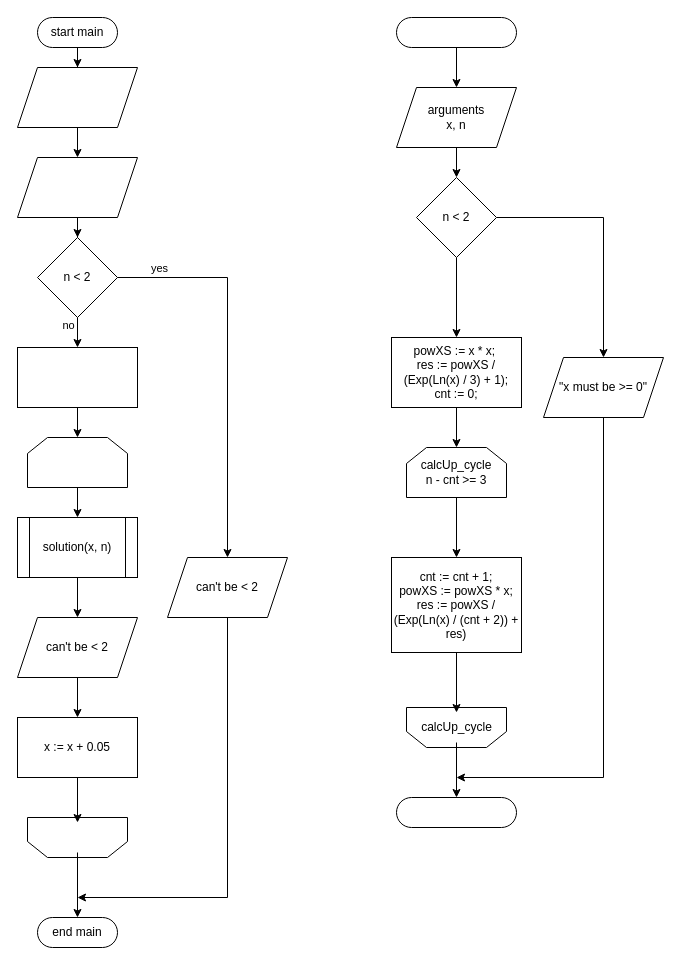
This 681x965 diagram has some shape labels left out. The shapes that lost their labels are listed below. From the top down, each one's centre as x and y in pixels, then its label:
(456,32): start solutuon
(77,97): write to console "n: "
(77,187): read n
(77,377): x := 0.5
(77,462): x_cycle x < 0.8 + x/1e6
(456,812): end solutuon
(77,837): x_cycle
